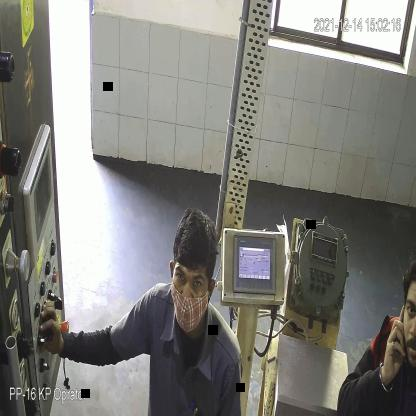no_goggles: (173, 266, 207, 299)
